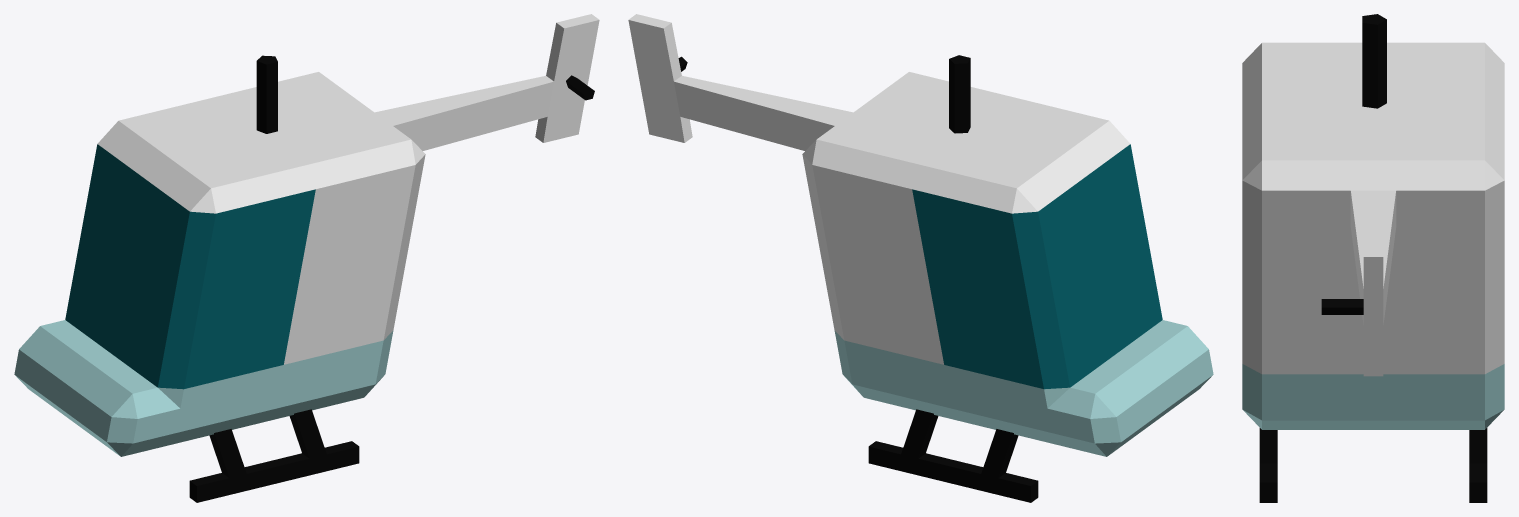
The model's file is helicopter.glb.
The picture shows the model from 3 angles, left to right: view 1: azimuth 30°, elevation 25°; view 2: azimuth 150°, elevation 25°; view 3: azimuth 270°, elevation 25°; orthographic projection. The views are drawn at different scales.
Parts seen in each view (by area): view 1: Cube.001; view 2: Cube.001; view 3: Cube.001.
Part boxes in pixels (x1=…): Cube.001: x1=14, y1=14, x2=599, y2=502; Cube.001: x1=628, y1=14, x2=1213, y2=502; Cube.001: x1=1242, y1=14, x2=1504, y2=502.
Bounding box in the file's own units: 4.54 × 3.08 × 1.6.
